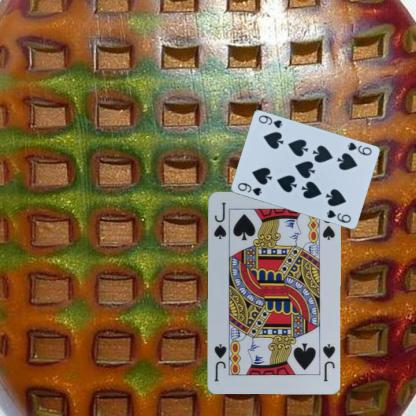9s: (344, 140, 373, 156), (235, 180, 262, 197)
Js: (211, 199, 227, 240), (320, 341, 336, 382)
